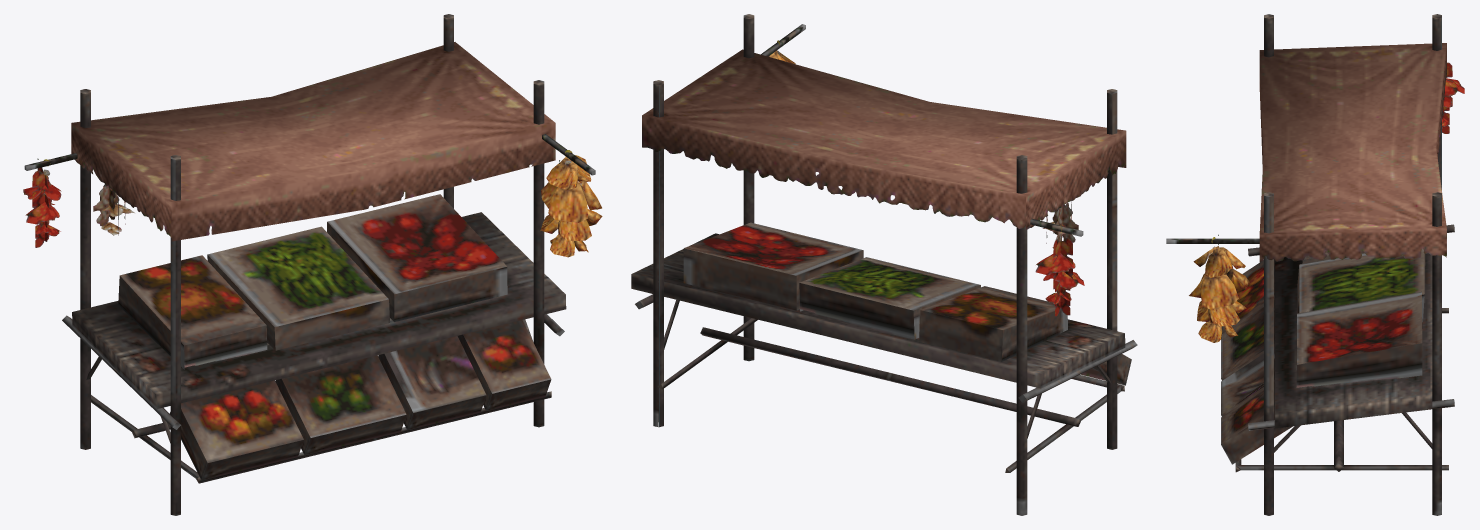
File: 1004_Item_puzi_2.FBX
The picture shows the model from 3 angles, left to right: view 1: azimuth 30°, elevation 25°; view 2: azimuth 150°, elevation 25°; view 3: azimuth 270°, elevation 25°; orthographic projection. The views are drawn at different scales.
Visible parts, largest first — view 1: 1004_Item_puzi_2; view 2: 1004_Item_puzi_2; view 3: 1004_Item_puzi_2.
Boxes of the visible parts, box(x1,y1,x2,y2) form: 1004_Item_puzi_2: box(23, 14, 602, 515); 1004_Item_puzi_2: box(631, 14, 1137, 515); 1004_Item_puzi_2: box(1166, 14, 1464, 515).
Size of the model in its own units: 370 by 222 by 272.
